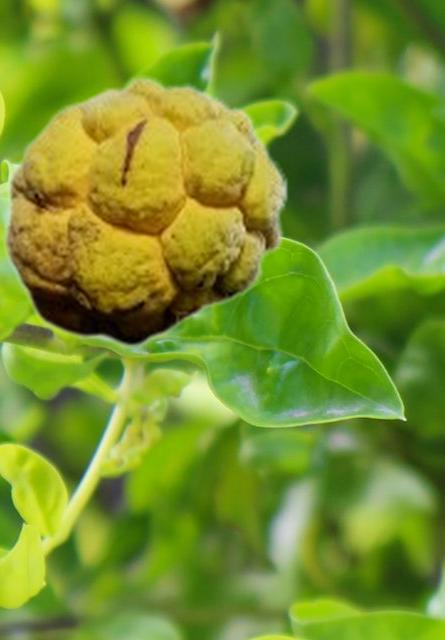atis: (1, 75, 288, 347)
